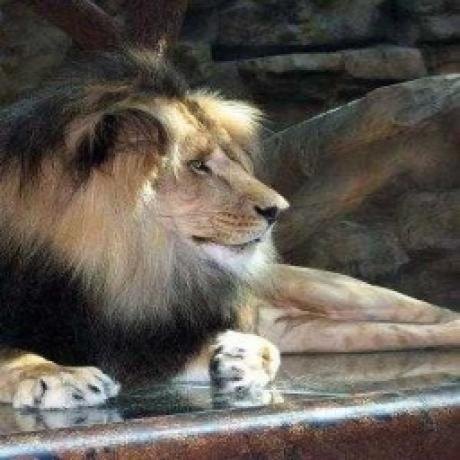Lion: (0, 43, 460, 409)
